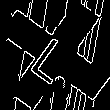L_NE: (28, 25, 82, 85)
